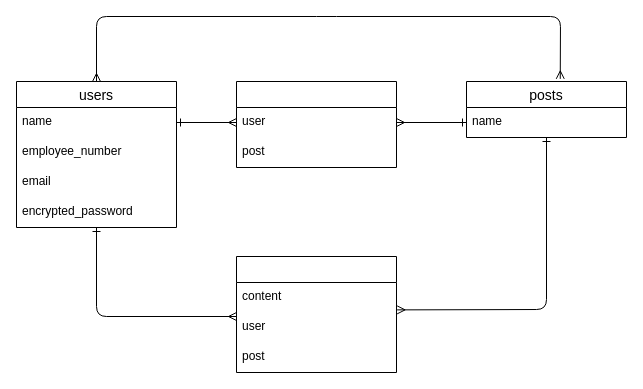
Some shapes in this 643 by 389 pixel diagram are drawn without their labels. Each missing label, with the box of its shape:
messages: (236, 256, 396, 372)
post_users: (236, 80, 396, 168)
